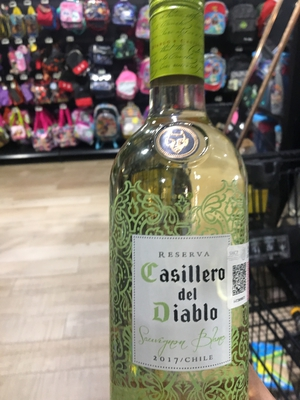casillero del diablo sauvignon blanc: (107, 12, 259, 400)
